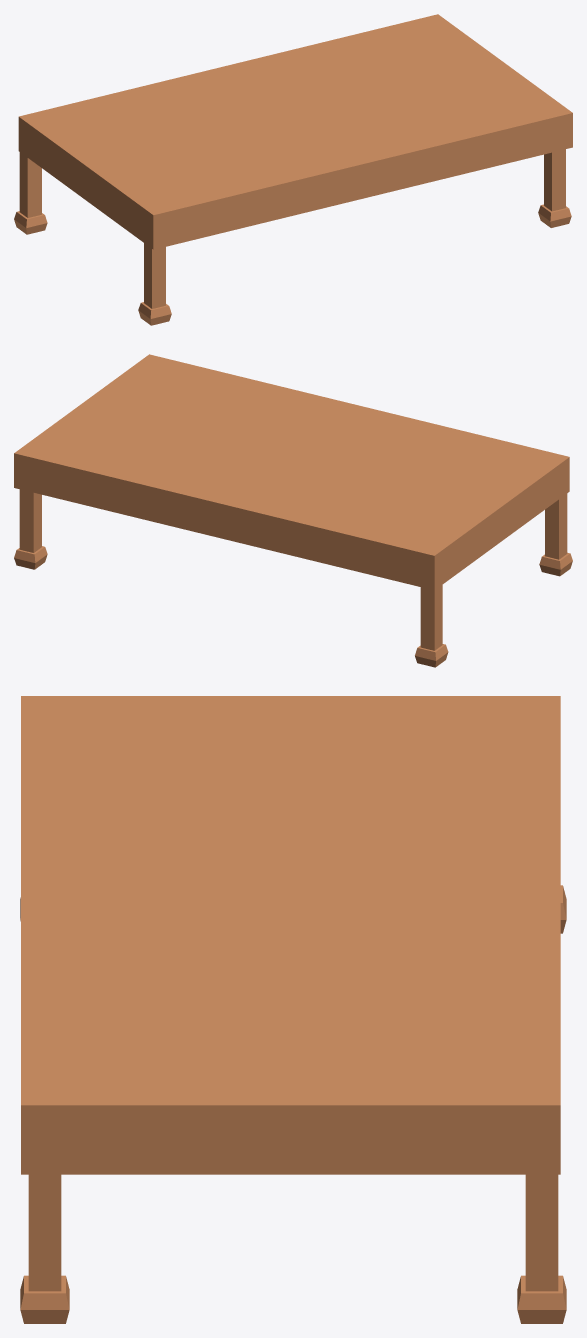
Rendered from table.fbx.
The picture shows the model from 3 angles, top to bottom: view 1: azimuth 30°, elevation 25°; view 2: azimuth 150°, elevation 25°; view 3: azimuth 270°, elevation 25°; orthographic projection. The views are drawn at different scales.
Visible parts, largest first — view 1: table; view 2: table; view 3: table.
Part boxes in pixels (x1,y1,x2,y2): table: [14, 14, 572, 325]; table: [14, 354, 572, 667]; table: [20, 696, 566, 1323].
Bounding box in the file's own units: 362 × 90.54 × 202.
